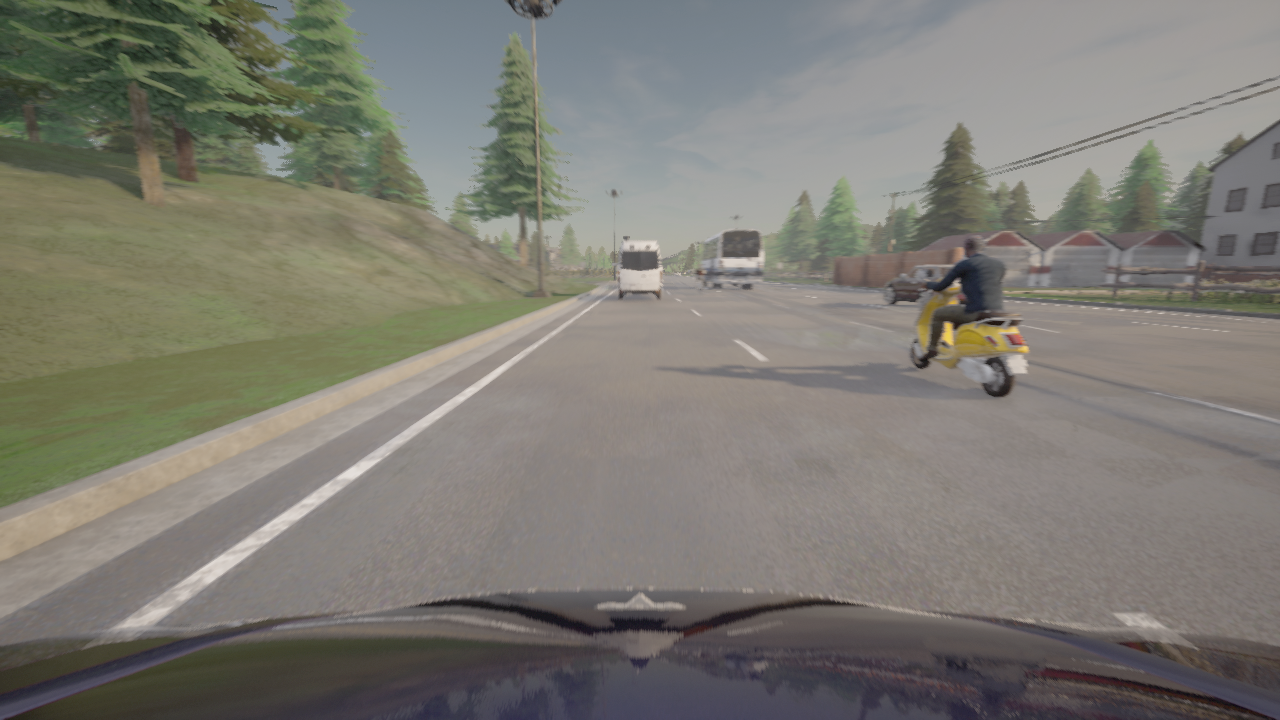cyclist: (0, 588, 1279, 719), (910, 269, 1028, 397), (695, 228, 762, 288), (883, 265, 966, 307), (617, 241, 661, 299), (696, 280, 700, 292)
